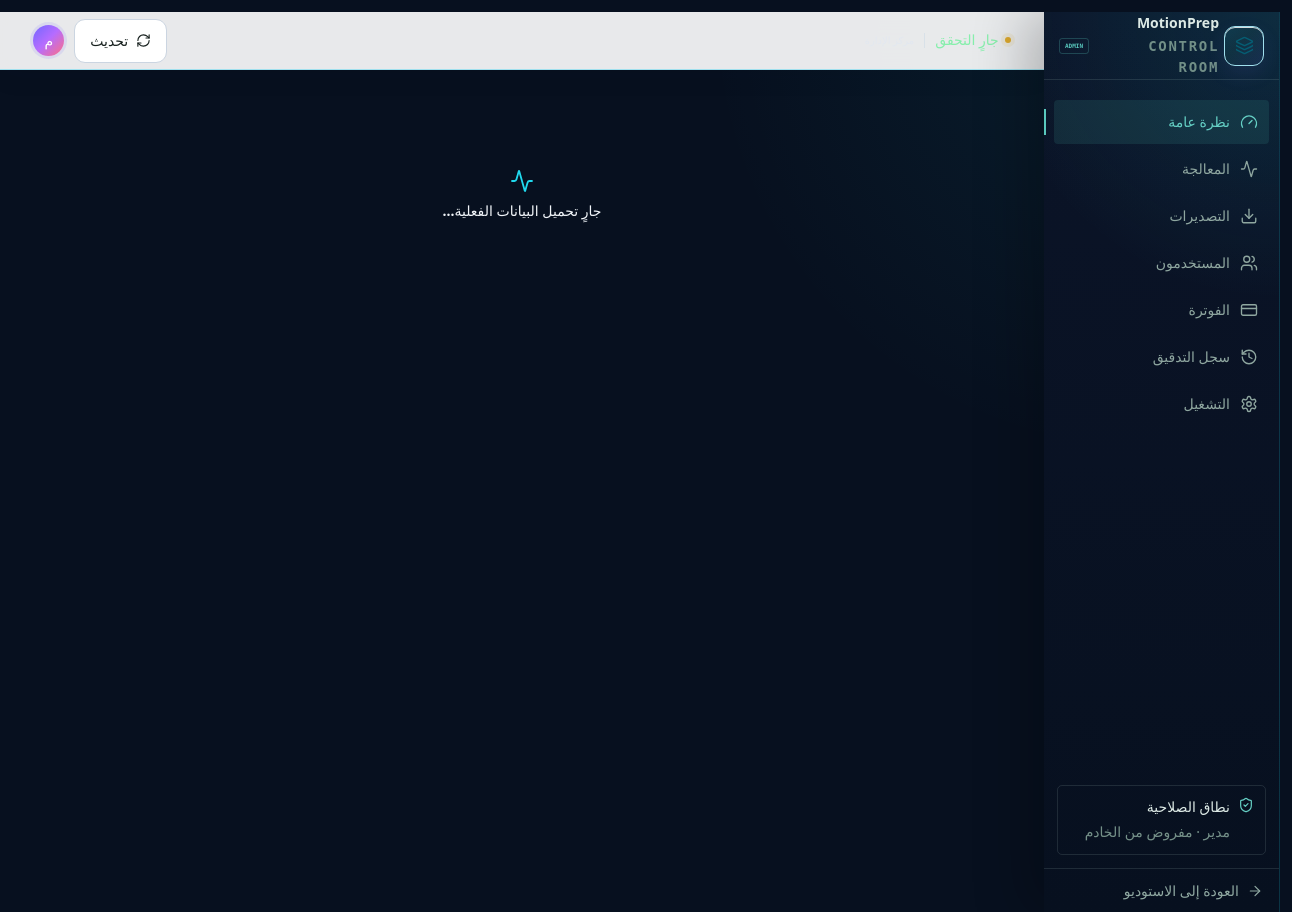
Test case: AdminPanel request lifecycle › aborts the previous view request before loading the next view
The image size is (1292, 912).
Click the button "المستخدمون". click: (1162, 263)
box: [1054,241,1269,285]
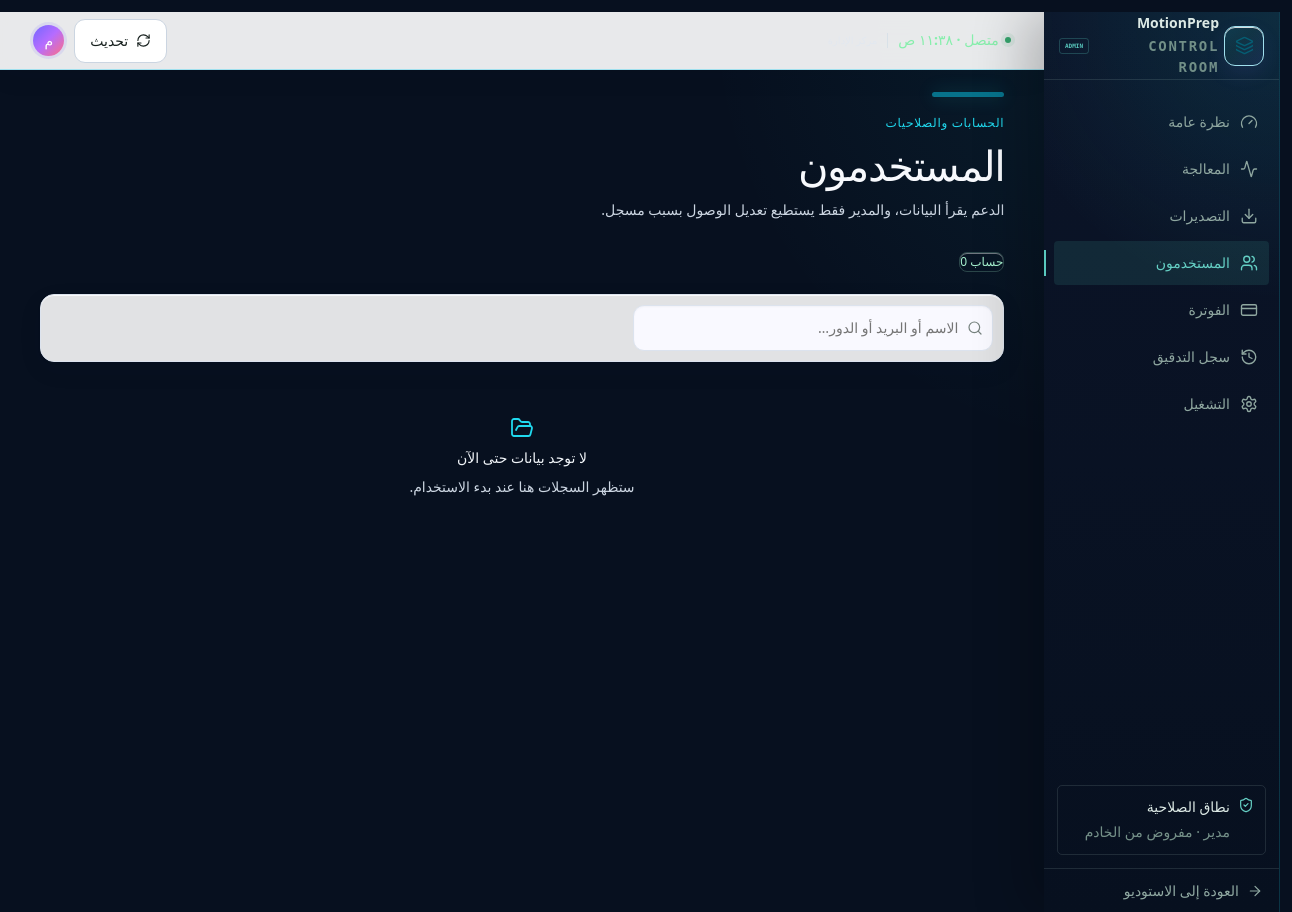
Now the heading "المستخدمون" is shown, box [798,137,1004,193]
